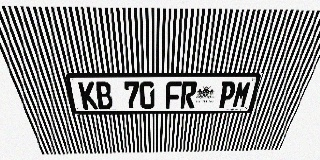0: (139, 82, 155, 109)
7: (123, 82, 140, 109)
B: (94, 82, 114, 109)
F: (165, 82, 181, 109)
K: (78, 82, 98, 109)
M: (231, 81, 253, 108)
P: (217, 81, 237, 108)
R: (180, 81, 197, 108)
